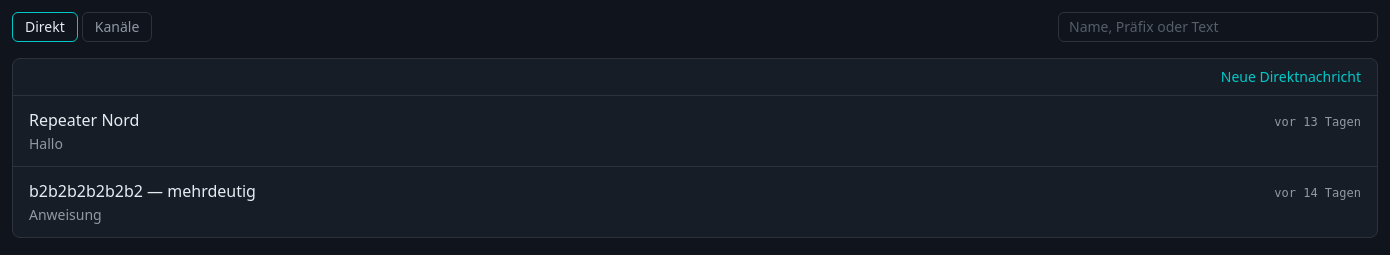
Test case: Nachrichtenseite areas › filters threads by the search box above the list
The width and height of the screenshot is (1390, 255).
Expected: the text "Repeater Nord" is shown, [29,109,139,131]
In the search field named "Fäden durchsuchen": (1218, 27) [1058,12,1378,42], type "nord"
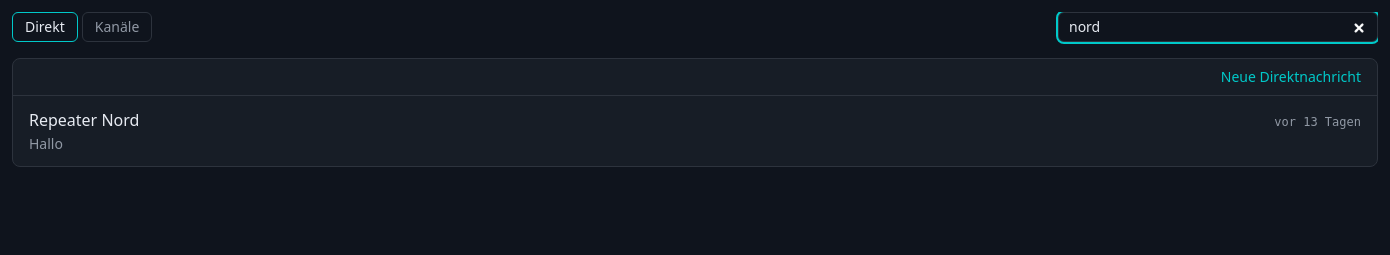
Expected: the text "Repeater Nord" is shown, [29,109,139,131]
Expected: the button "mehrdeutig" is gone
